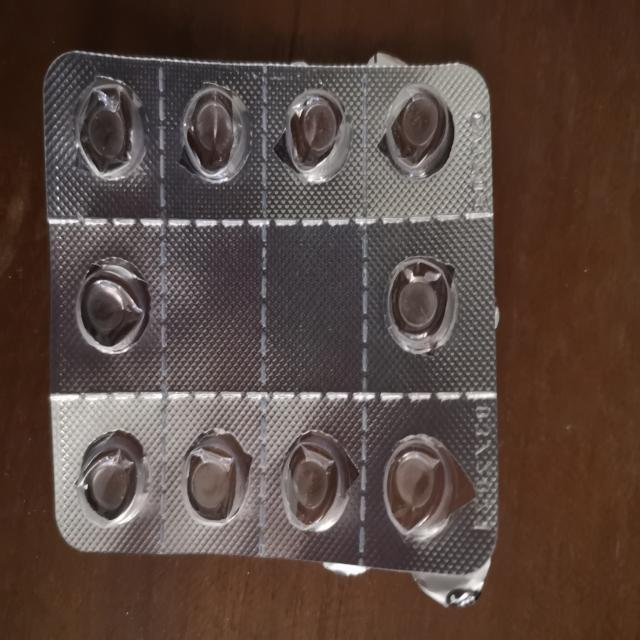Empty: (379, 426, 466, 557), (69, 249, 158, 370), (371, 247, 463, 357), (64, 73, 144, 189), (274, 424, 358, 533), (174, 424, 252, 536), (174, 77, 253, 185), (74, 424, 150, 531), (382, 81, 458, 180), (272, 81, 348, 180)
